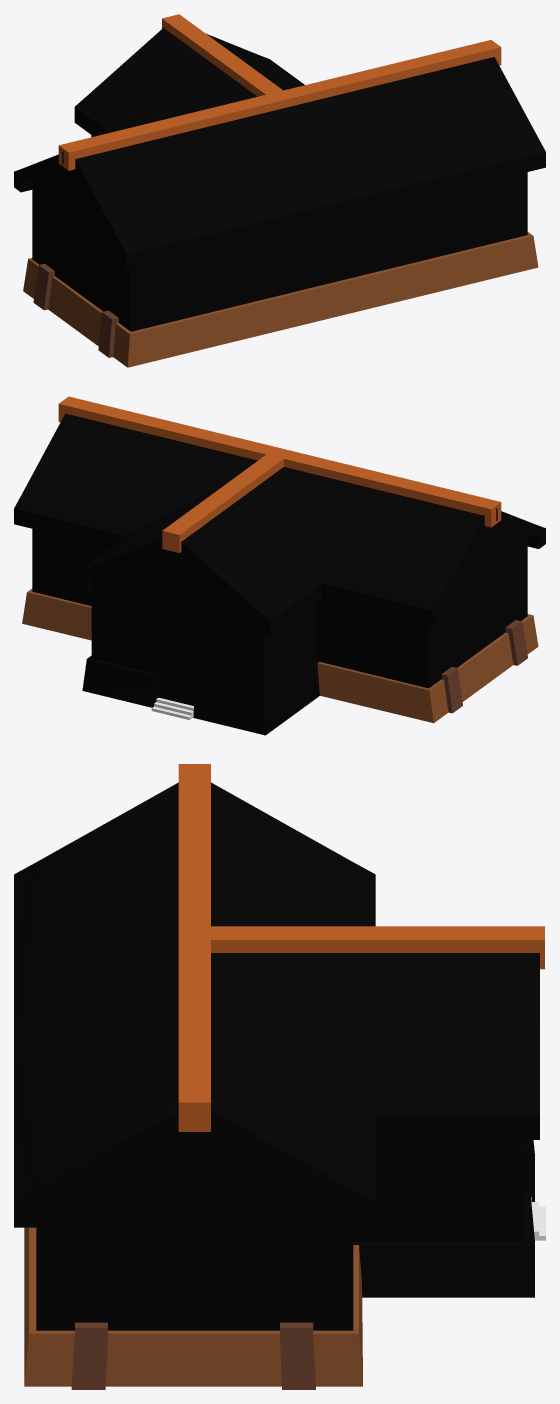
The model's file is domek2.FBX.
3 views of the same model, one above another, from view 1: azimuth 30°, elevation 25°; view 2: azimuth 150°, elevation 25°; view 3: azimuth 270°, elevation 25° (orthographic). The views are drawn at different scales.
Visible parts, largest first — view 1: Object003; view 2: Object003; view 3: Object003.
Boxes of the visible parts, box(x1,y1,x2,y2) form: Object003: box(14, 14, 545, 367); Object003: box(14, 396, 545, 735); Object003: box(14, 764, 545, 1389).
Size of the model in its own units: 118 by 47.37 by 78.
